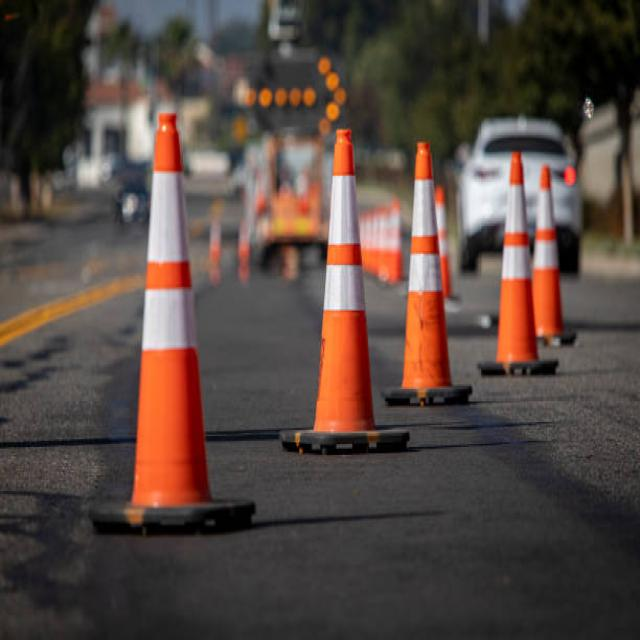Traffic Cone: (68, 84, 282, 554), (272, 111, 419, 462), (377, 125, 481, 415), (474, 145, 561, 385)
